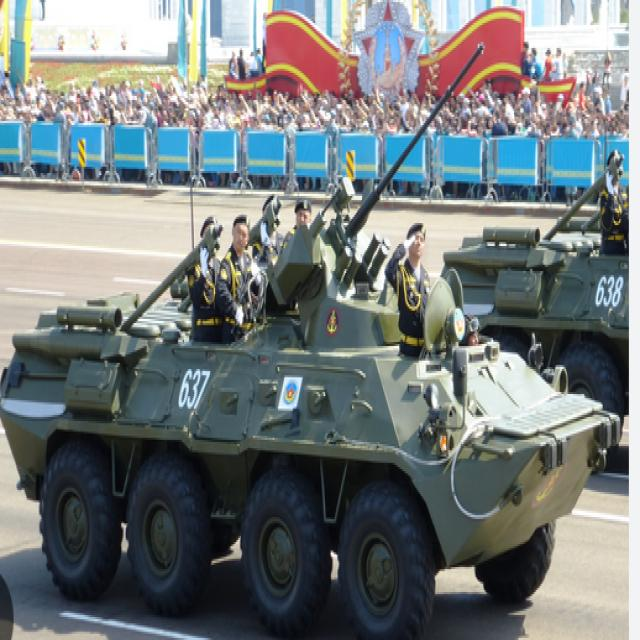MIL_APC: (7, 220, 626, 608)
